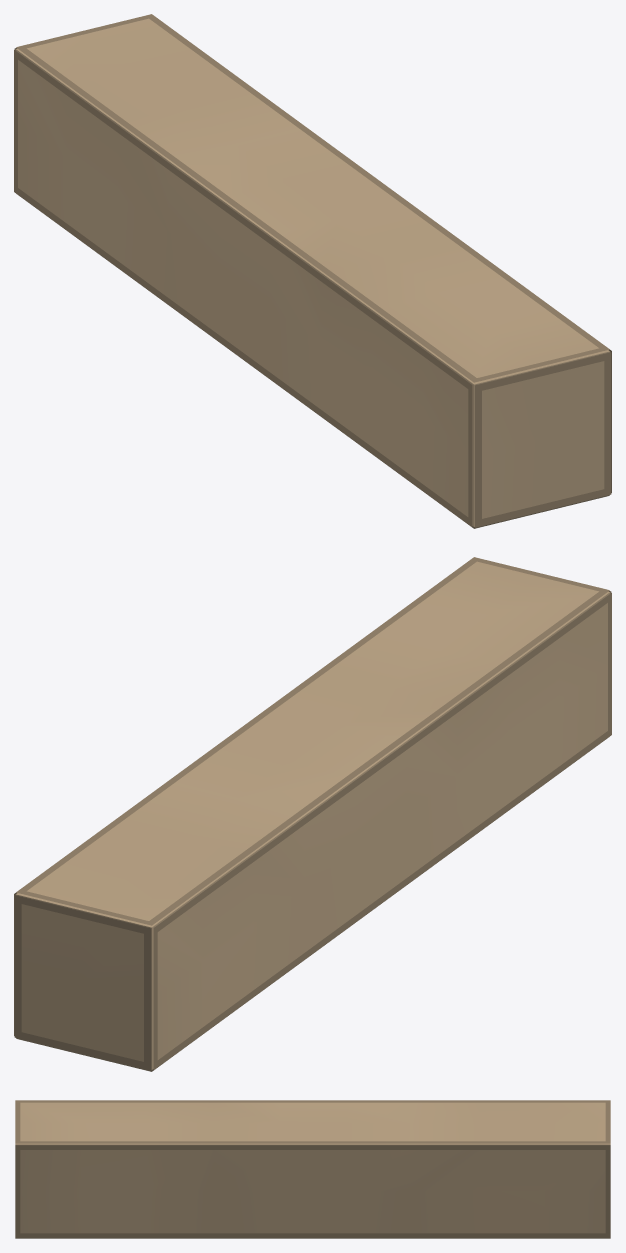
Rendered from key.glb.
The picture shows the model from 3 angles, top to bottom: view 1: azimuth 30°, elevation 25°; view 2: azimuth 150°, elevation 25°; view 3: azimuth 270°, elevation 25°; orthographic projection. The views are drawn at different scales.
Visible parts, largest first — view 1: key; view 2: key; view 3: key.
Boxes of the visible parts, bbox=[...] form: key: bbox=[14, 14, 611, 528]; key: bbox=[14, 557, 611, 1071]; key: bbox=[15, 1100, 610, 1238].
Size of the model in its own units: 0.0308 by 0.0308 by 0.1758.
